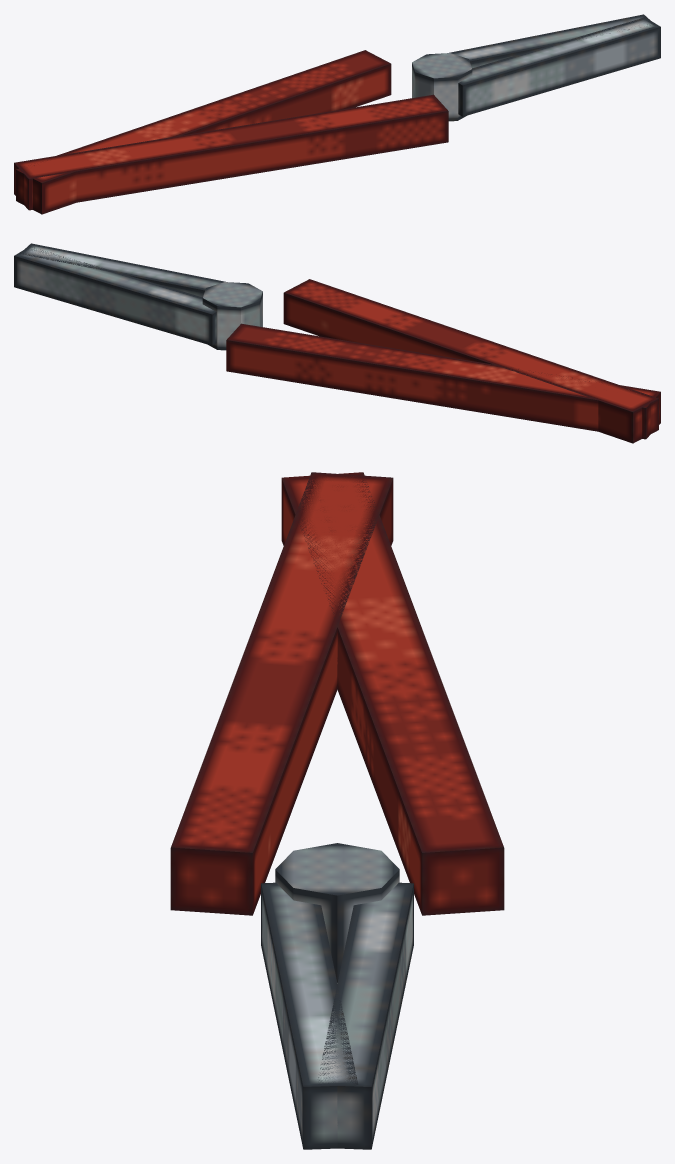
Rendered from SM_Pliers_01.fbx.
3 views of the same model, one above another, from view 1: azimuth 30°, elevation 25°; view 2: azimuth 150°, elevation 25°; view 3: azimuth 270°, elevation 25° (orthographic). The views are drawn at different scales.
Parts seen in each view (by area): view 1: SM_Pliers_01; view 2: SM_Pliers_01; view 3: SM_Pliers_01.
Part boxes in pixels (left/top/right/bottom): SM_Pliers_01: left=14, top=14, right=660, bottom=214; SM_Pliers_01: left=14, top=243, right=660, bottom=443; SM_Pliers_01: left=170, top=472, right=504, bottom=1149.
Bounding box in the file's own units: 0.2104 × 0.014 × 0.0482.
Materials: 1 (1 with a texture image).
